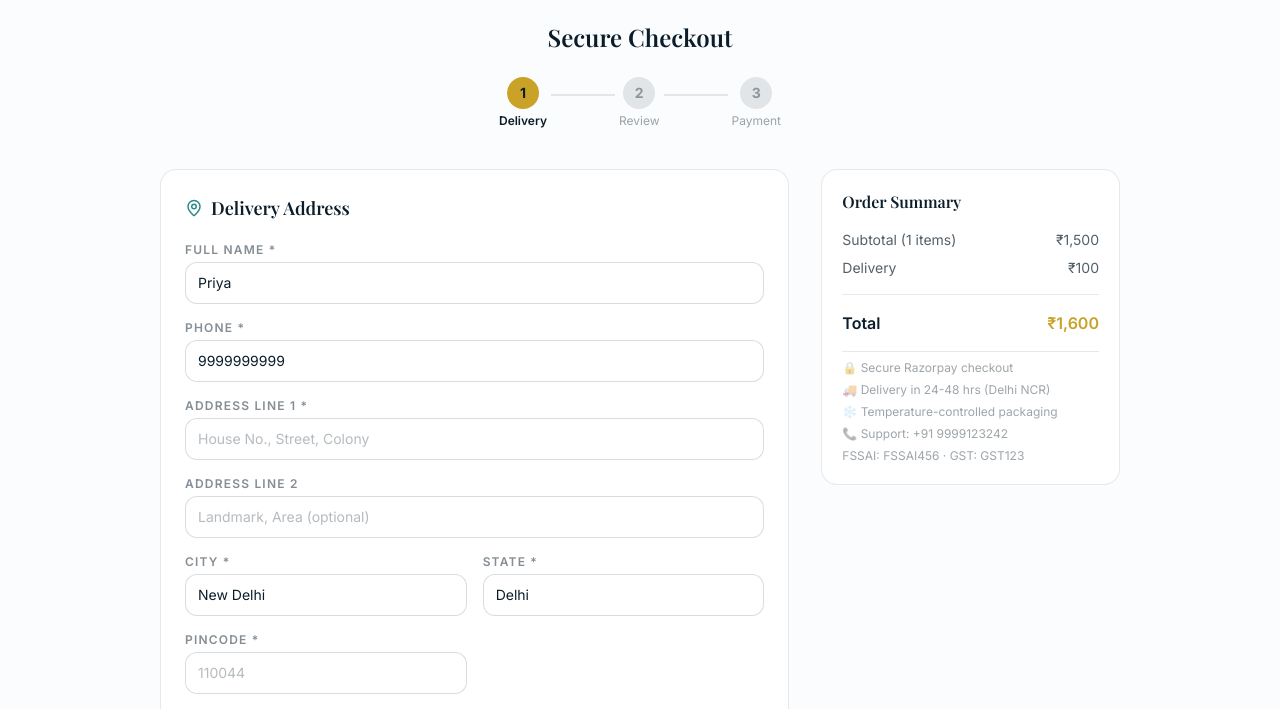
CheckoutPage — address step › rejects an invalid pincode
The width and height of the screenshot is (1280, 709).
Type "123 Test Street" into the field with placeholder "House No., Street, Colony" at (475, 439), box [185,418,764,460]
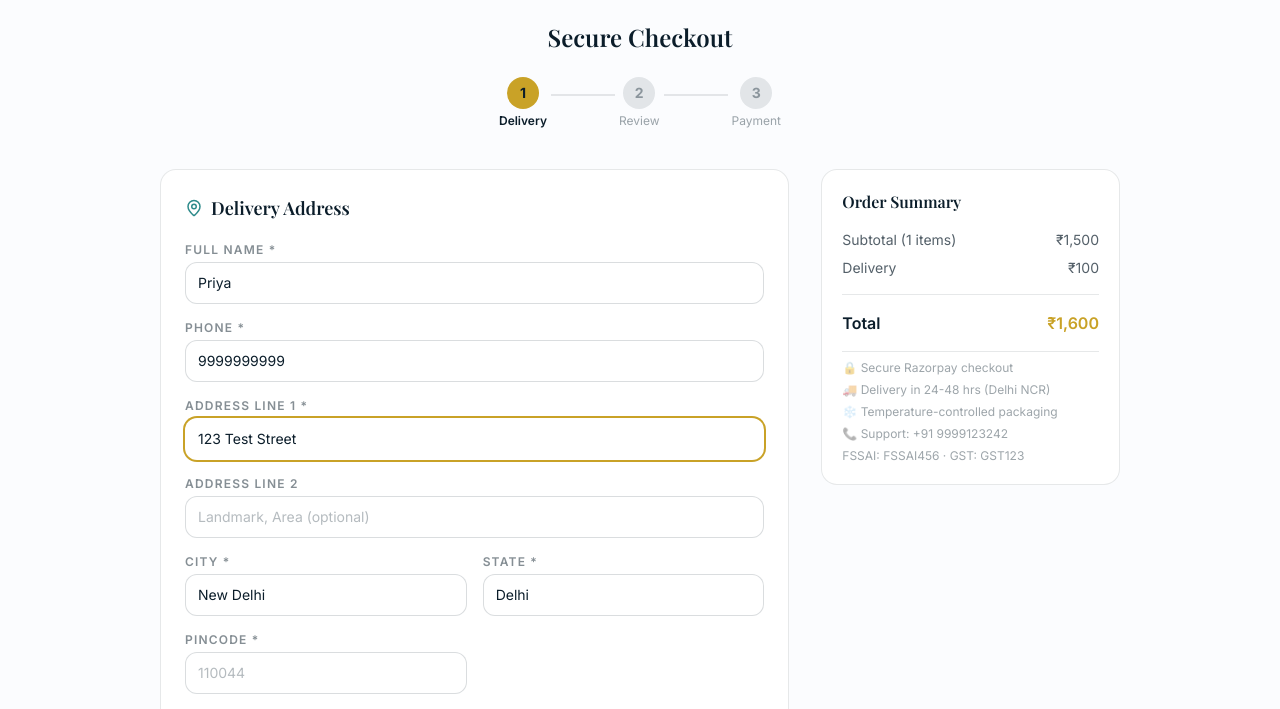
Type "123" into the field with placeholder "110044" at (326, 673), box [185,652,467,694]
(page scrolled)
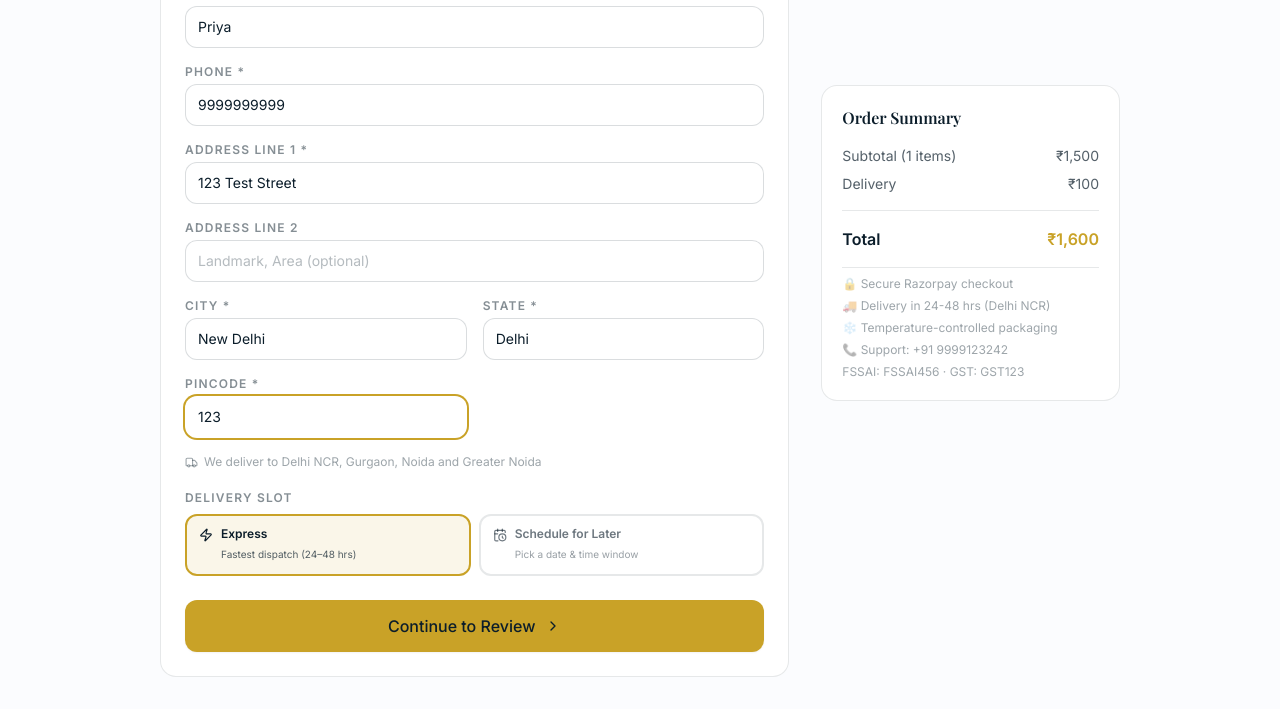
Click the button "Continue to Review" at (475, 626), box [185,600,764,652]
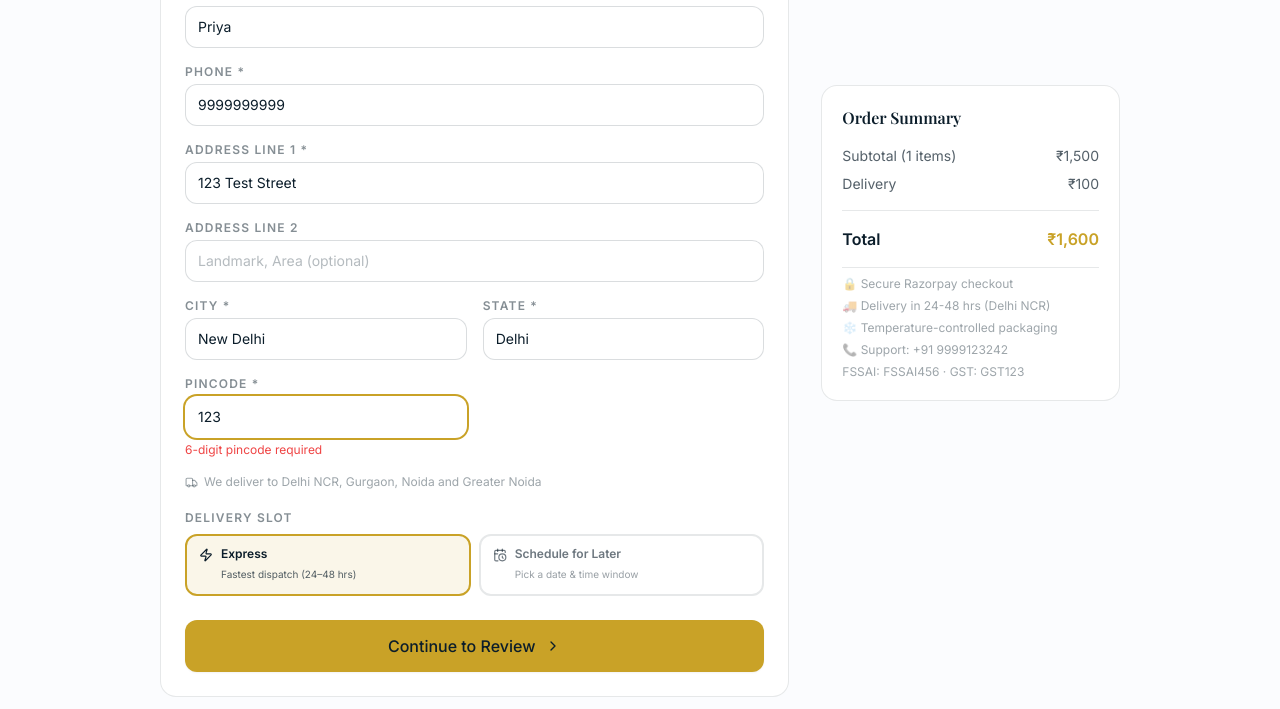
Result: the text "6-digit pincode required" is shown at [185,442,322,457]
